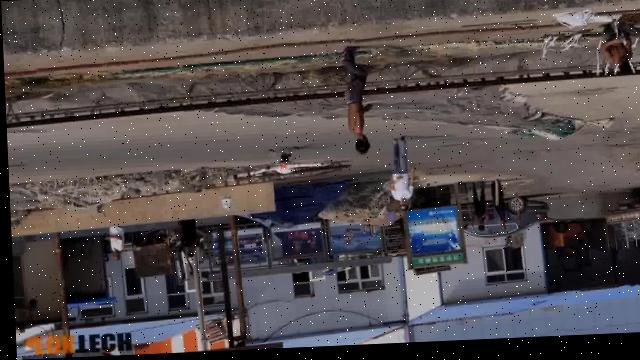drone: (241, 149, 329, 183)
